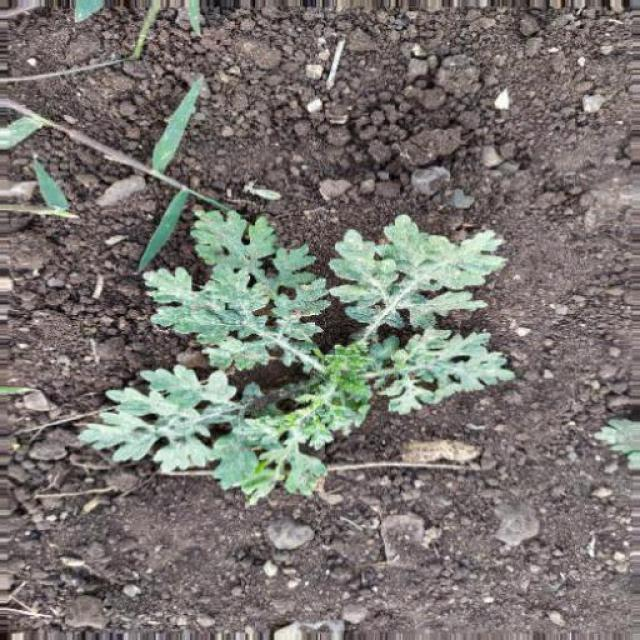weed: (95, 202, 516, 488)
